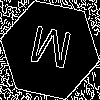M: (25, 25, 75, 79)
